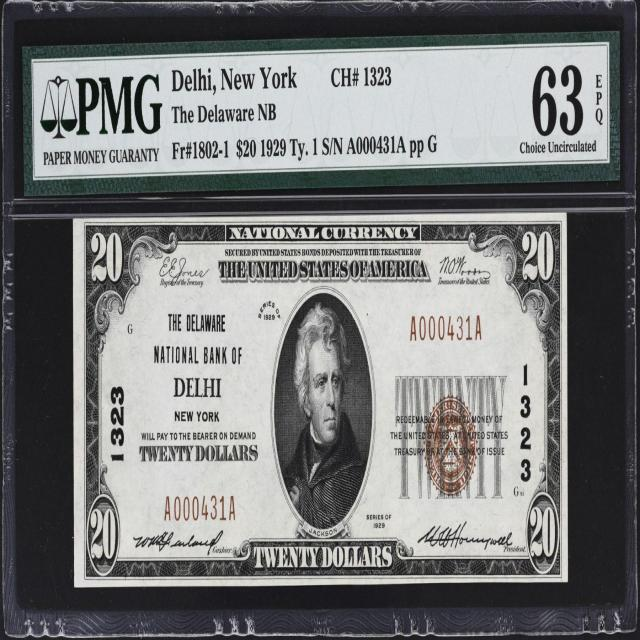20-Front: (75, 219, 569, 584)
